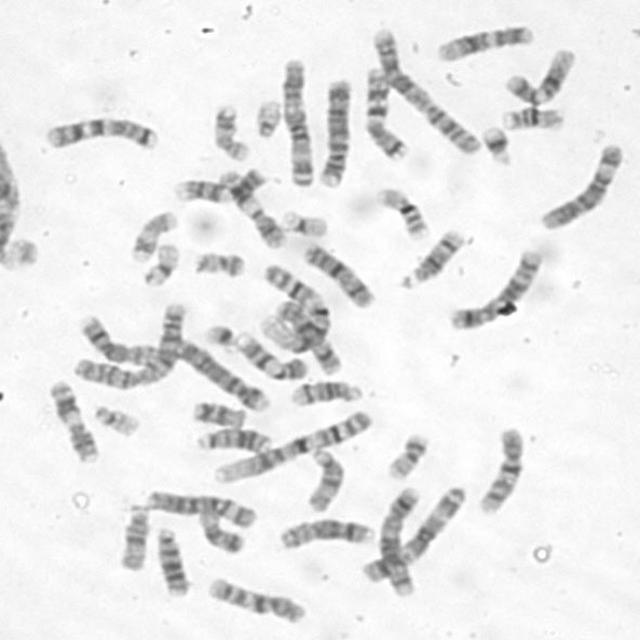A1: (210, 406, 374, 484), (252, 258, 332, 352)
A2: (369, 25, 483, 157), (67, 298, 188, 392)
A3: (356, 479, 471, 586), (278, 53, 316, 188)
B4: (168, 338, 271, 414), (314, 75, 354, 189)
B5: (445, 244, 546, 334), (375, 484, 424, 597)
C10: (203, 573, 310, 626), (472, 423, 528, 518)
C11: (216, 164, 287, 250), (44, 376, 100, 464)
C12: (501, 44, 578, 107), (433, 21, 535, 63)
C6: (535, 136, 627, 232), (144, 486, 259, 529)
C7: (358, 62, 412, 163), (41, 113, 161, 151)
C8: (75, 308, 174, 371), (275, 513, 375, 551)
C9: (232, 327, 312, 382), (172, 166, 268, 204)
D13: (152, 524, 191, 598), (191, 424, 274, 454)
D14: (396, 222, 470, 290), (285, 378, 366, 408)
D15: (304, 444, 348, 514), (117, 500, 150, 572)
E16: (372, 182, 432, 242), (496, 103, 566, 134)
E17: (125, 206, 178, 264), (210, 99, 252, 163)
E18: (195, 504, 247, 555), (190, 396, 249, 429)
F19: (140, 240, 182, 288), (278, 206, 330, 240)
F20: (382, 428, 432, 482), (189, 247, 248, 280)
G21: (477, 121, 514, 167), (200, 320, 240, 354)
G22: (89, 400, 142, 440), (250, 95, 284, 139)
X: (272, 296, 344, 378), (298, 238, 378, 310)
